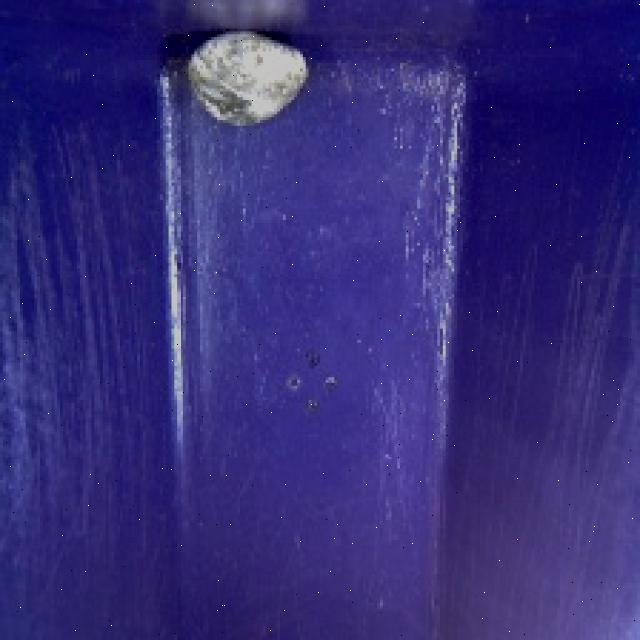cobbles: (177, 20, 318, 135)
